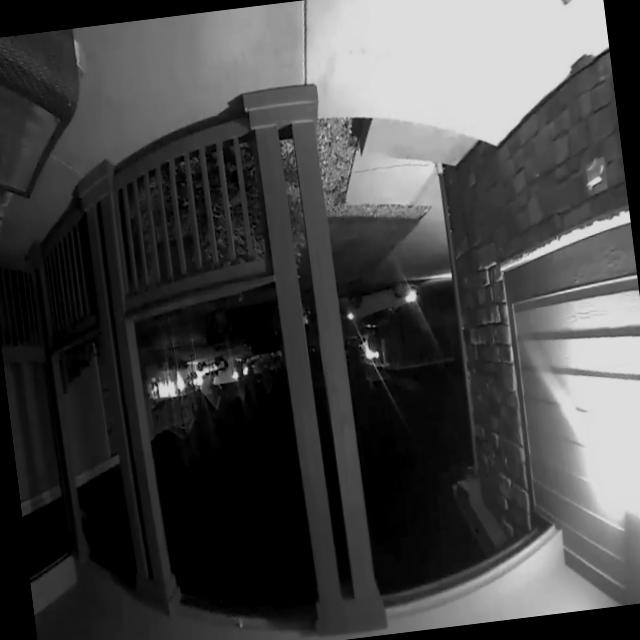car: (196, 296, 318, 370), (334, 282, 430, 339), (192, 347, 232, 394)
